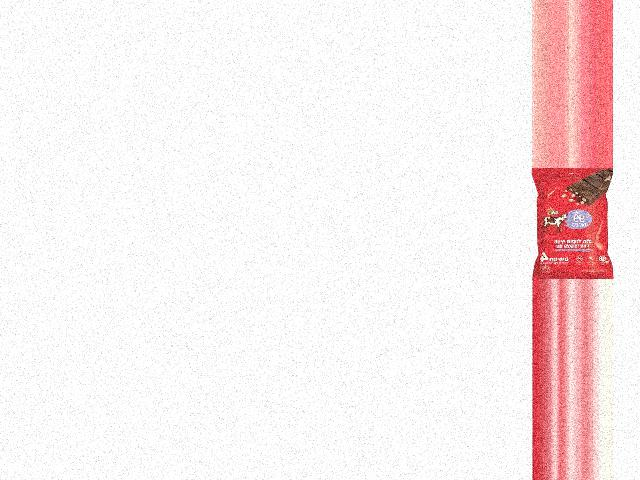chocolate: (534, 168, 614, 280)
